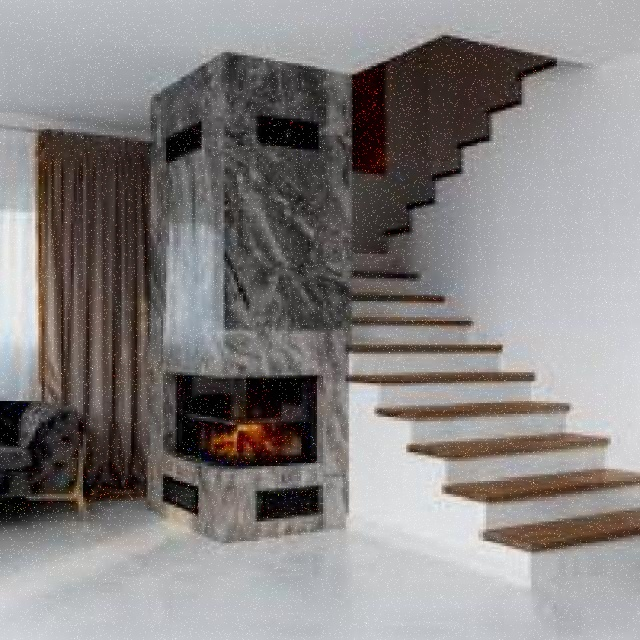stair: (306, 251, 639, 598)
